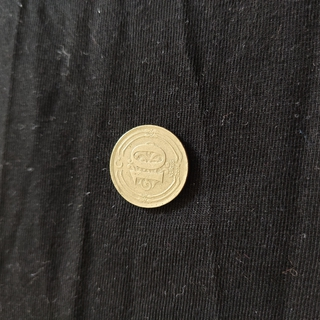10KURUS: (107, 122, 190, 210)
